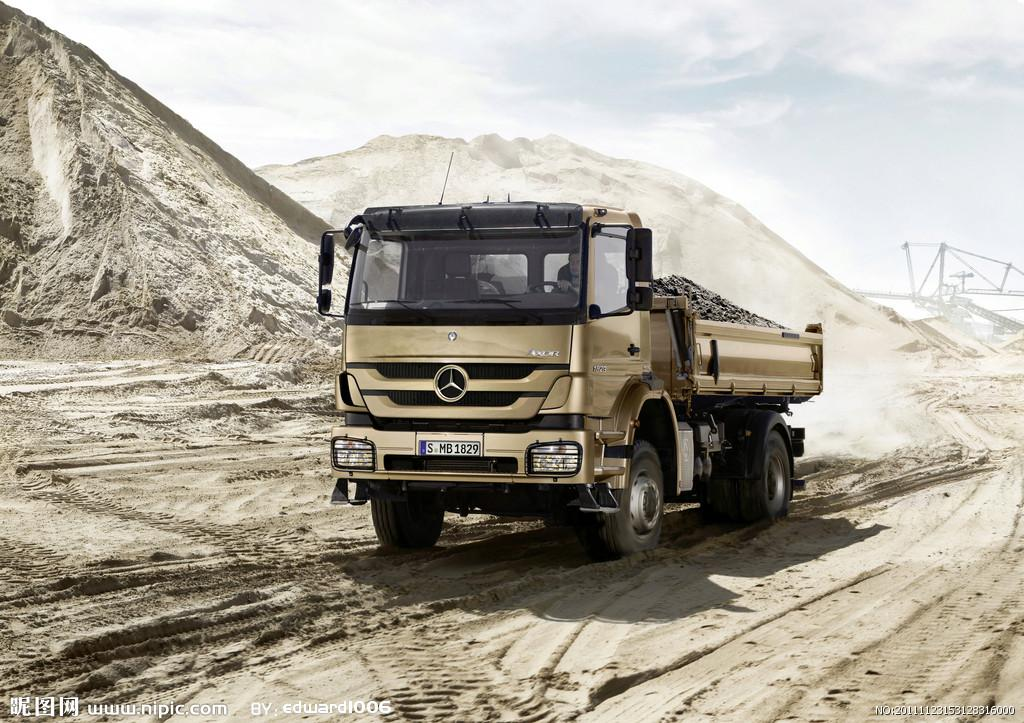truck: (299, 174, 833, 560)
